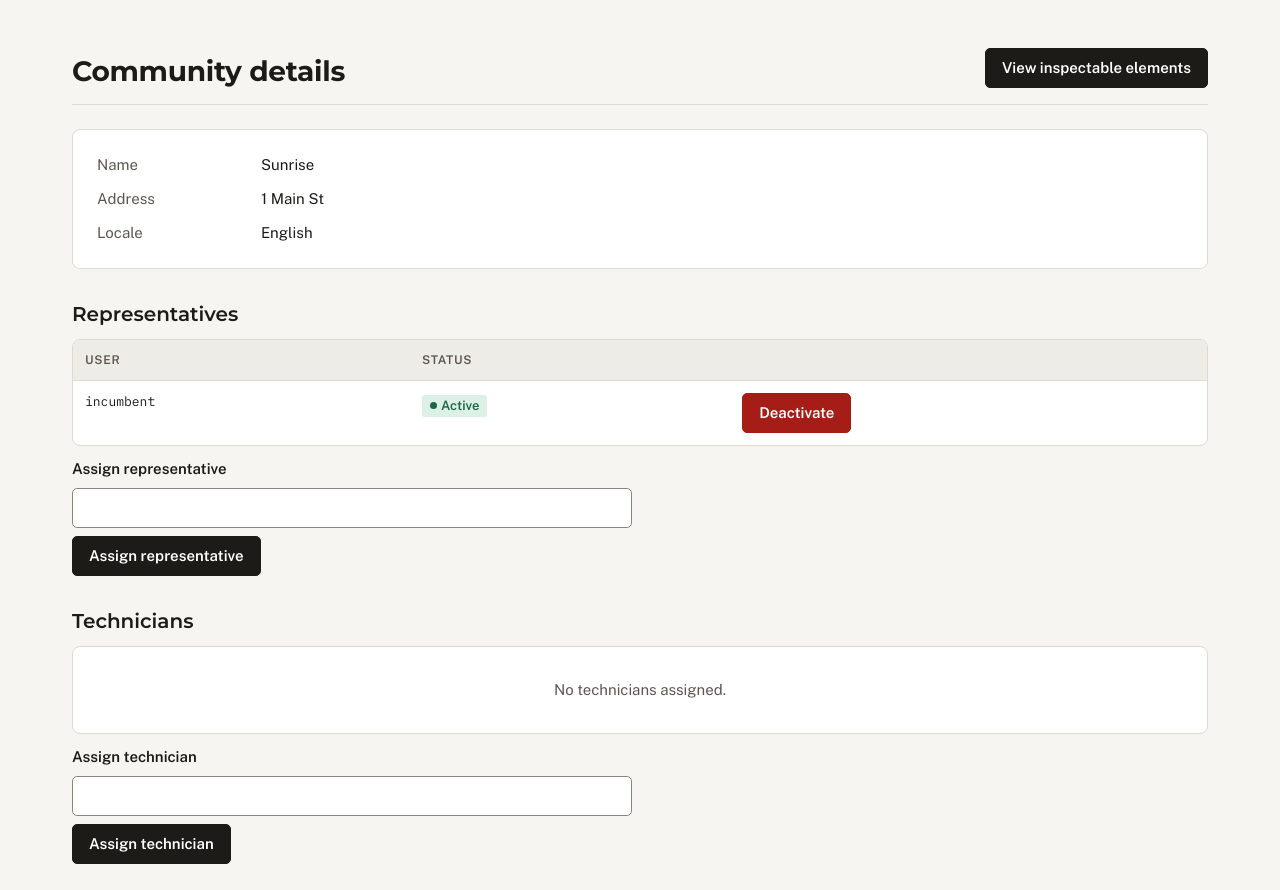
CommunityDetailPage › renders the representative exclusivity swap after a mocked add, scoped to the representatives section
Expected: the row with test id "representatives-row-incumbent" is shown, [73,381,1207,445]
Type "new-rep" into the field with test id "representatives-assign-input". click: point(352, 508)
box: [72,488,632,528]
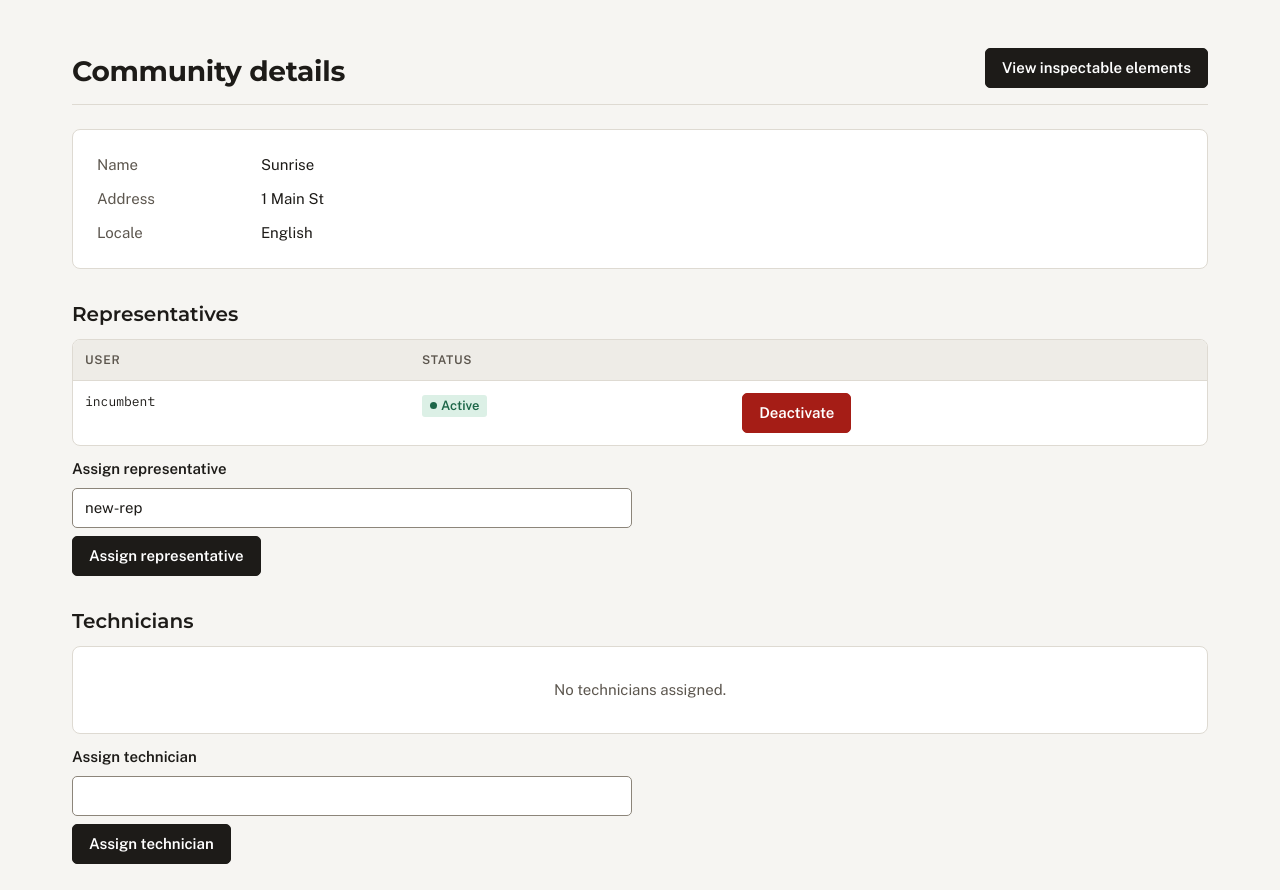
Click the button with test id "representatives-assign-submit". click: point(166, 556)
box: [72,536,261,576]
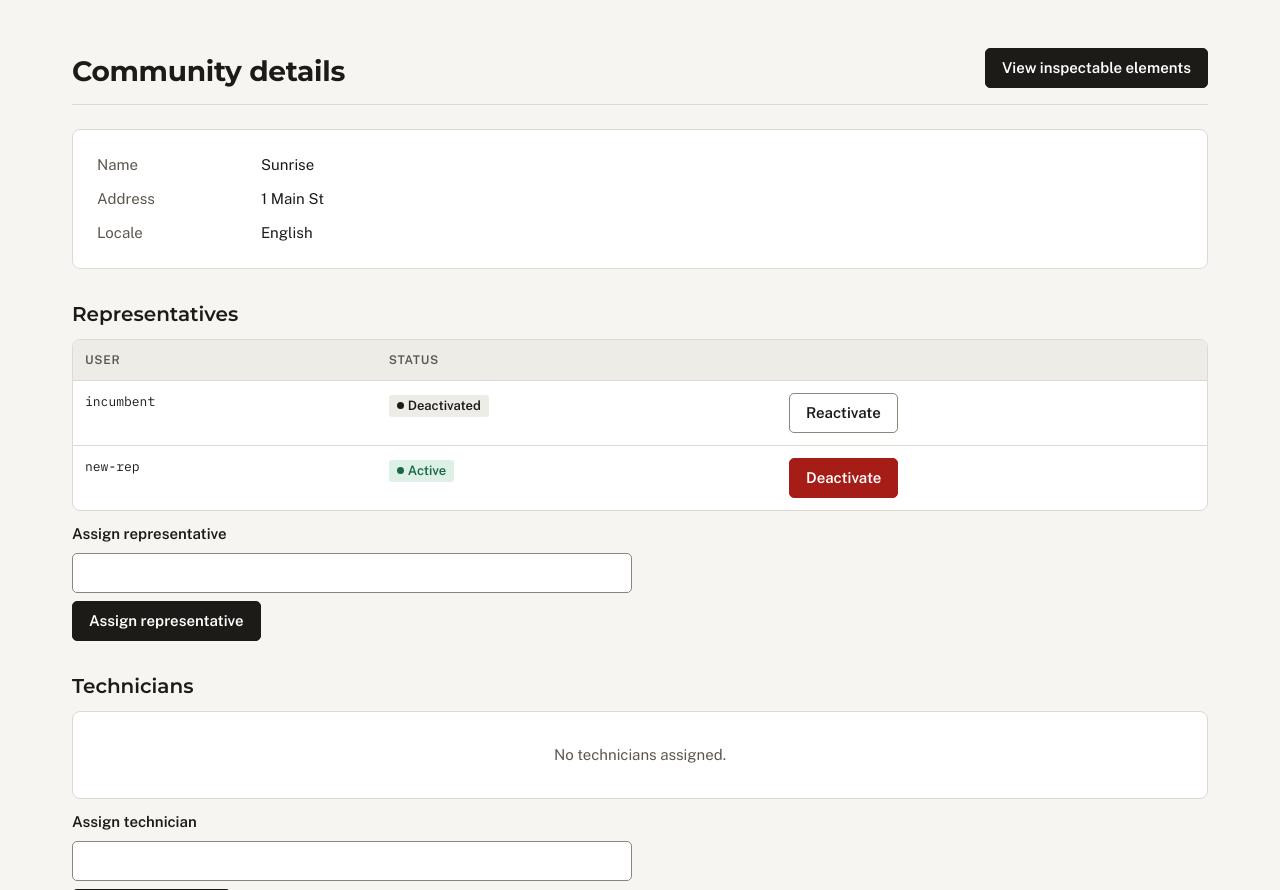
Expected: the text "No technicians assigned." is shown, [72,711,1208,799]
Now the row with test id "representatives-row-incumbent" shows "Deactivated", box [408,398,481,412]
Now the row with test id "representatives-row-new-rep" shows "Active", box [408,462,446,478]
